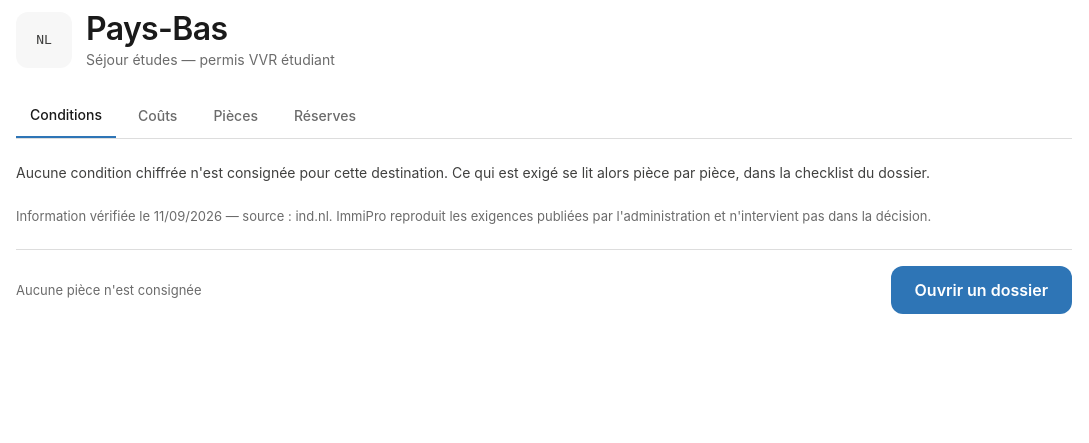
Test: C-04 — Fiche détaillée › quand une section n'a rien à montrer › ne promet pas un détail pièce par pièce sur une checklist vide
Click the tab "Pièces": [236, 116] box [199,94,272,138]
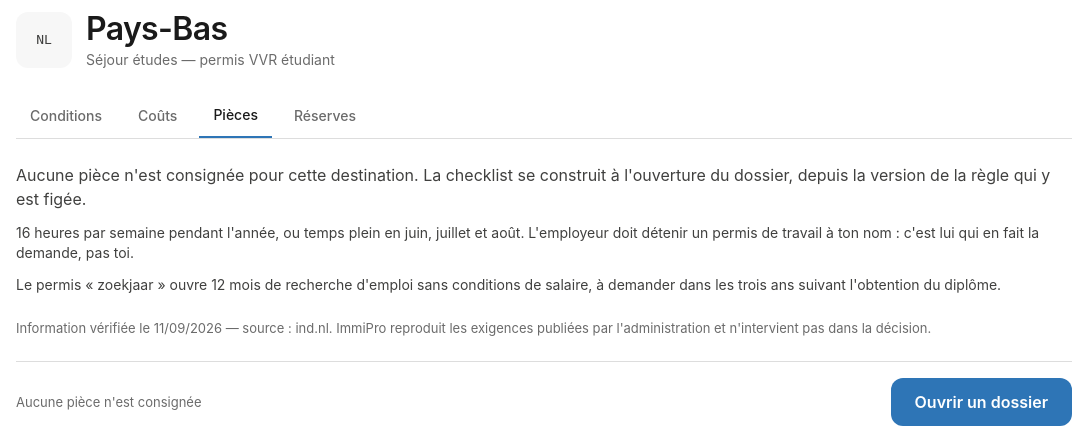
Expected: the panel shows "Aucune pièce n'est consignée", [16,165,1050,209]
Expected: the text "pièce par pièce" is gone
